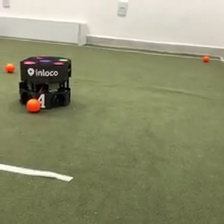ball: (25, 96, 42, 114), (5, 61, 15, 74), (202, 53, 210, 63)
goal: (1, 14, 87, 48)
robot: (16, 52, 75, 112)
